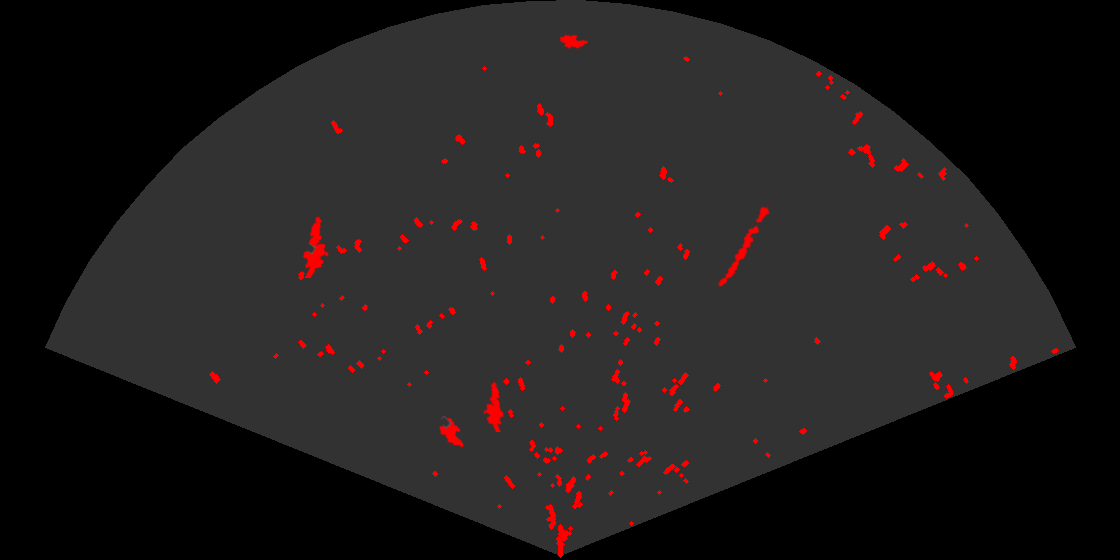AUV: (438, 414, 465, 449), (558, 33, 590, 50)
chain: (716, 201, 773, 288)
frogman: (301, 215, 330, 278), (482, 380, 506, 432)
